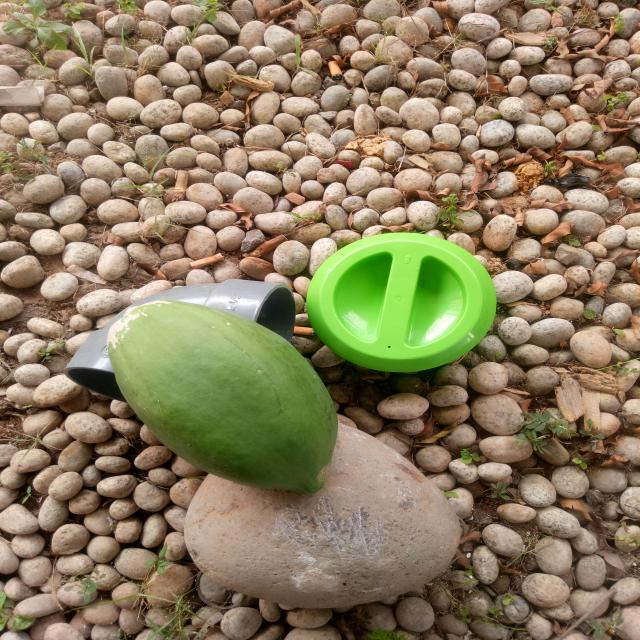Pepaya unrippen: (101, 297, 341, 494)
